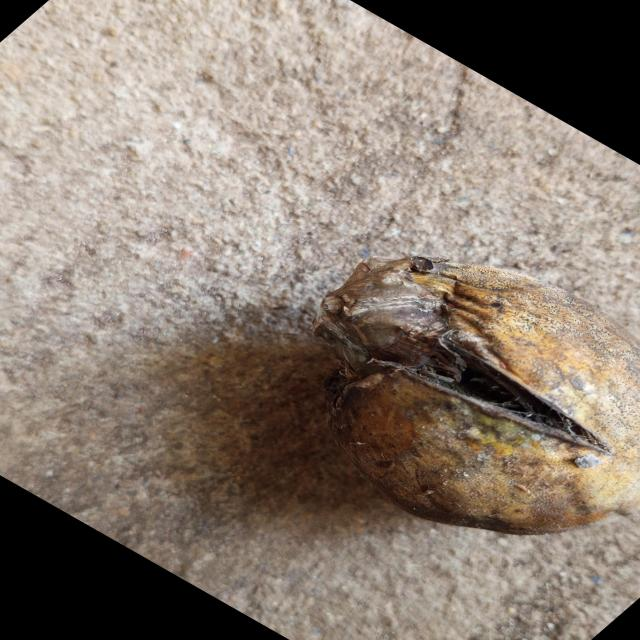damaged: (311, 256, 640, 536)
